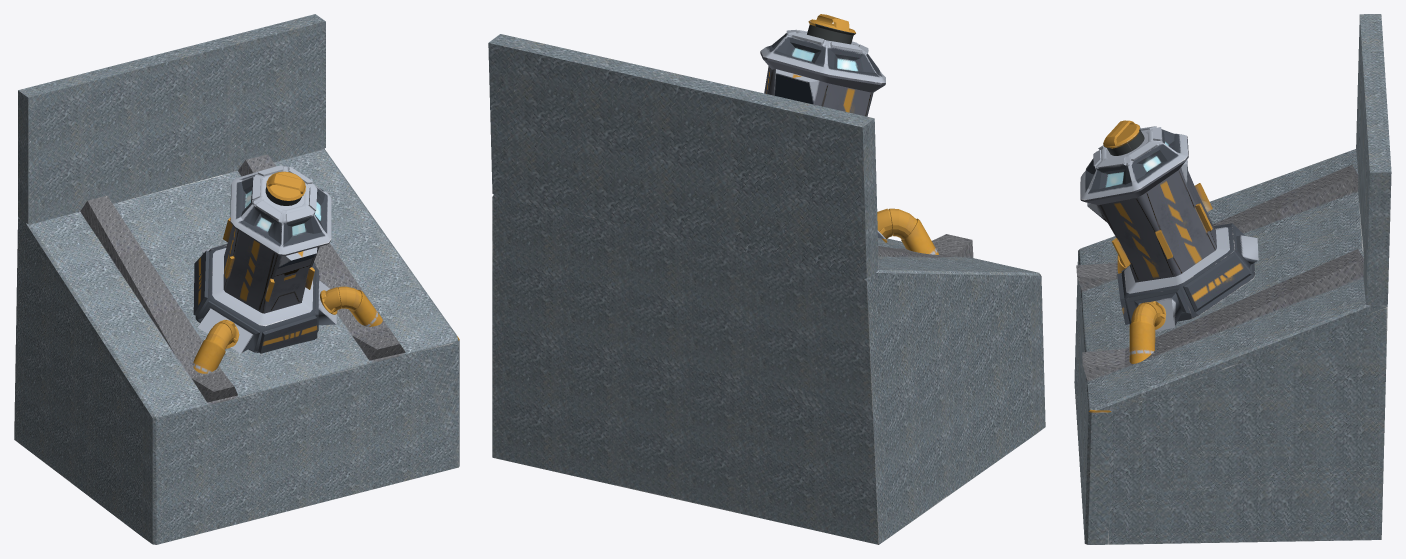
The model's file is core.fbx.
The picture shows the model from 3 angles, left to right: view 1: azimuth 30°, elevation 25°; view 2: azimuth 150°, elevation 25°; view 3: azimuth 270°, elevation 25°; orthographic projection. The views are drawn at different scales.
Visible parts, largest first — view 1: core1; view 2: core1; view 3: core1.
Part boxes in pixels (bbox=[...]): core1: bbox=[14, 14, 459, 544]; core1: bbox=[488, 14, 1045, 544]; core1: bbox=[1074, 14, 1391, 544].
Size of the model in its own units: 19.09 by 20.25 by 15.62.
